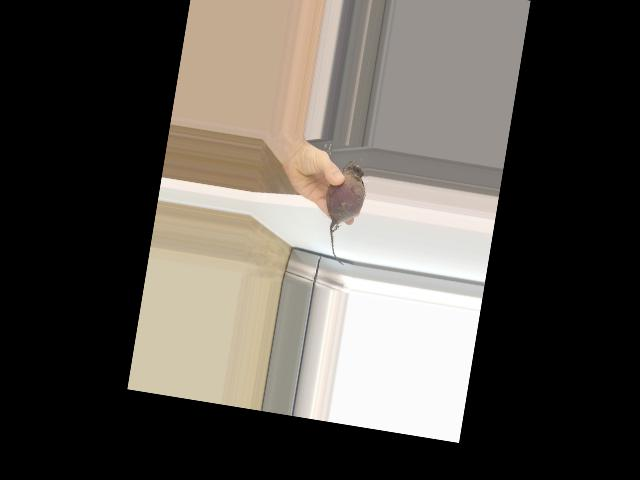beet: (316, 157, 370, 266)
